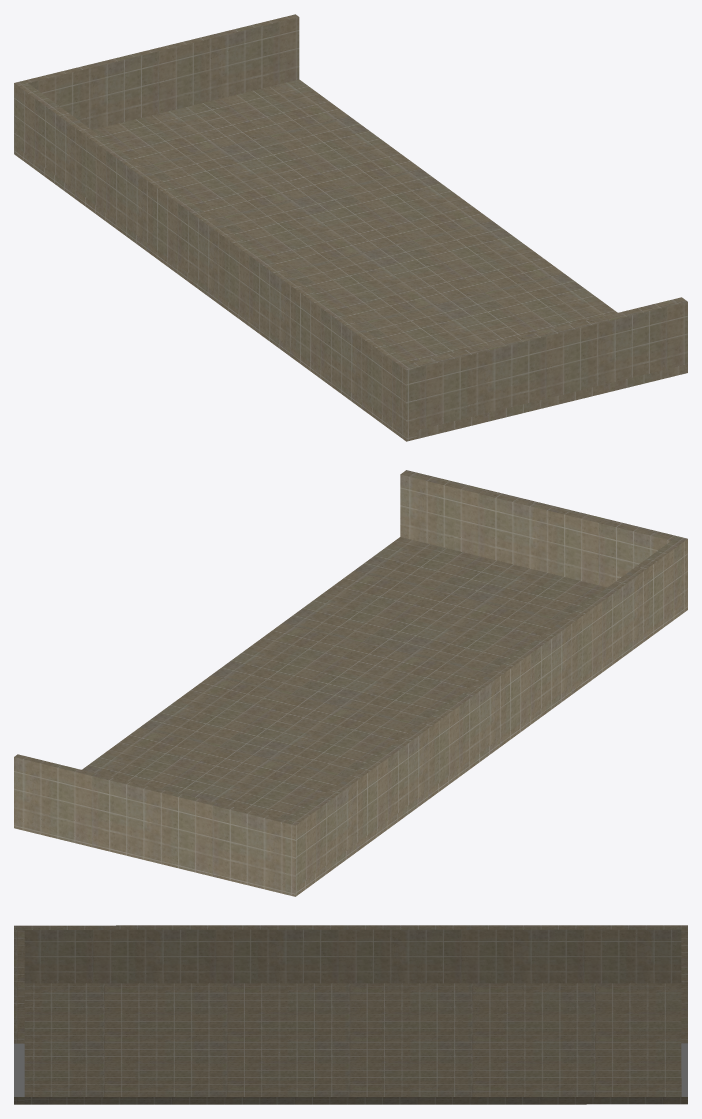
3 renders of one model, top to bottom at view 1: azimuth 30°, elevation 25°; view 2: azimuth 150°, elevation 25°; view 3: azimuth 270°, elevation 25°, orthographic. The views are drawn at different scales.
Visible parts, largest first — view 1: FP229:Cube.1226_13077586; view 2: FP229:Cube.1226_13077586; view 3: FP229:Cube.1226_13077586.
Boxes of the visible parts, x1,y1,x2,y2 form: FP229:Cube.1226_13077586: (14,14,687,441); FP229:Cube.1226_13077586: (14,470,687,896); FP229:Cube.1226_13077586: (14,925,687,1104).
Size of the model in its own units: 2.34 by 0.5667 by 5.64.
